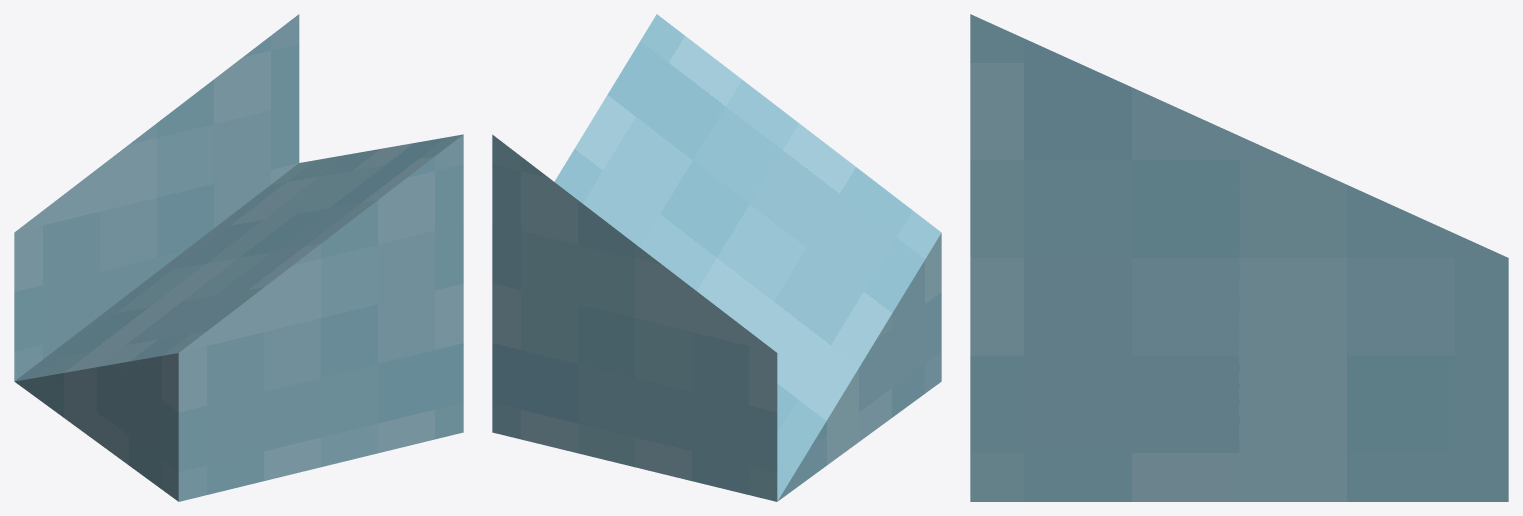
Rendered from Ice_Corner.glb.
The picture shows the model from 3 angles, left to right: view 1: azimuth 30°, elevation 25°; view 2: azimuth 150°, elevation 25°; view 3: azimuth 270°, elevation 25°; orthographic projection. The views are drawn at different scales.
Parts seen in each view (by area): view 1: Ice_Corner_body; view 2: Ice_Corner_body; view 3: Ice_Corner_body.
Boxes of the visible parts, x1,y1,x2,y2 form: Ice_Corner_body: [14, 14, 463, 501]; Ice_Corner_body: [492, 14, 941, 501]; Ice_Corner_body: [970, 14, 1508, 501].
Bounding box in the file's own units: 1 × 1 × 1.
Materials: 1 (1 with a texture image).
